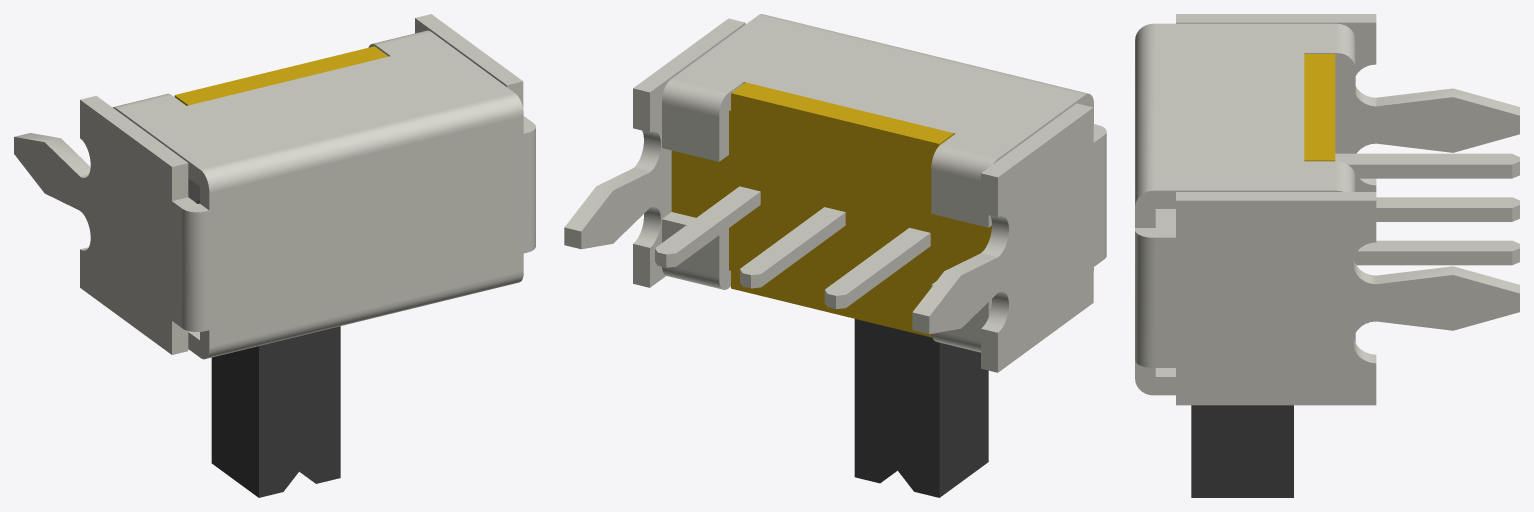
The model's file is sw-slide-spdt-angled-ck-os102011ma1q.glb.
3 views of the same model, side by side, from view 1: azimuth 30°, elevation 25°; view 2: azimuth 150°, elevation 25°; view 3: azimuth 270°, elevation 25° (orthographic). The views are drawn at different scales.
Visible parts, largest first — view 1: PIN-01, CAP-CERAMIC-05, PLASTIC-YELLOW-01; view 2: PIN-01 (×3), PLASTIC-YELLOW-01, CAP-CERAMIC-05; view 3: PIN-01 (×3), CAP-CERAMIC-05, PLASTIC-YELLOW-01.
Part boxes in pixels (x1,y1,x2,y2): PIN-01: (14,14,535,359); CAP-CERAMIC-05: (188,178,340,497); PLASTIC-YELLOW-01: (174,46,388,105); PIN-01 (×3): (564,14,1106,372); PLASTIC-YELLOW-01: (671,82,991,337); CAP-CERAMIC-05: (854,319,988,497); PIN-01 (×3): (1135,14,1519,405); CAP-CERAMIC-05: (1191,405,1293,497); PLASTIC-YELLOW-01: (1304,54,1335,161).
Bounding box in the file's own units: 8.6 × 8.4 × 7.5.
